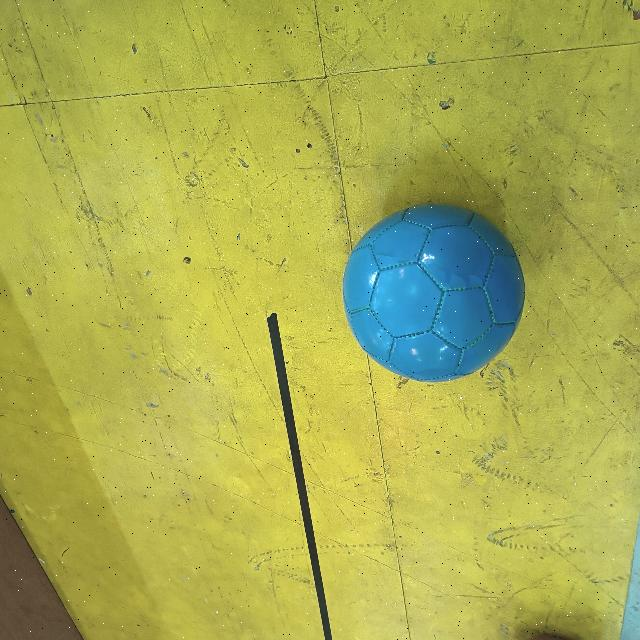B: (340, 200, 528, 388)
